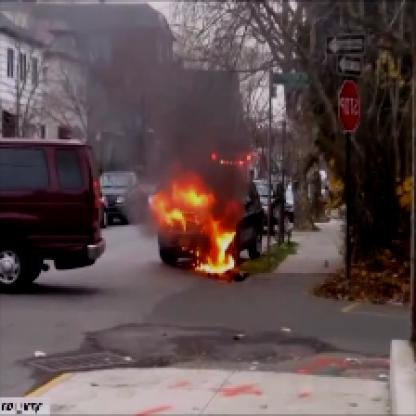Fire: (154, 173, 255, 280)
